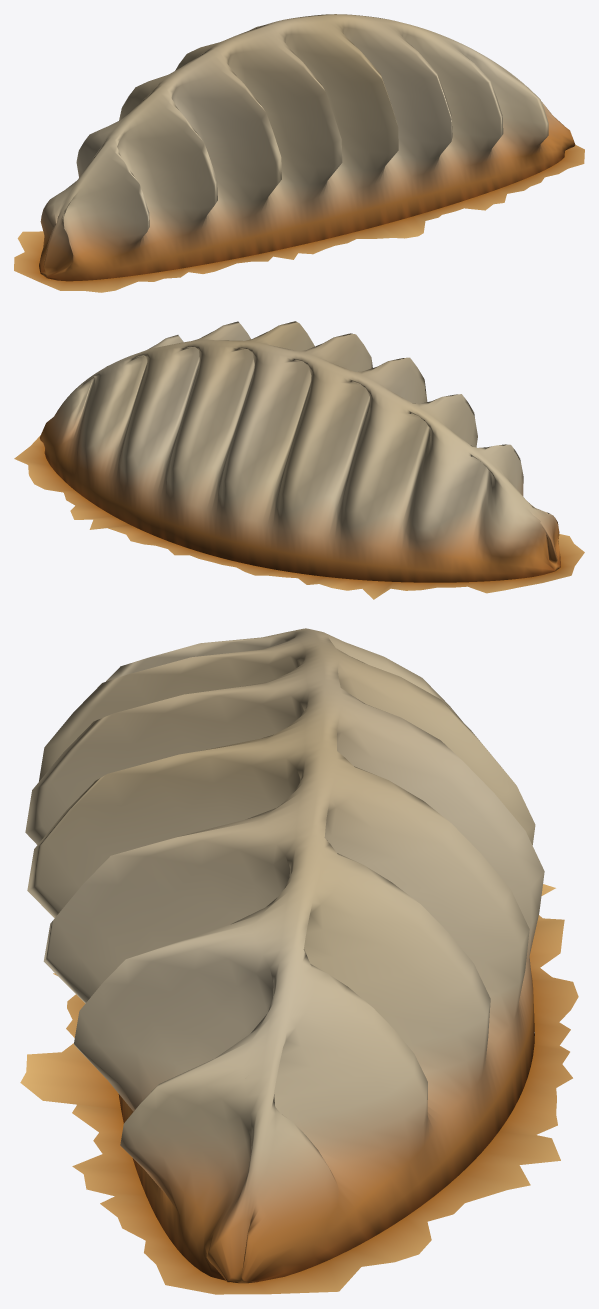
Rendered from hero-gyoza.glb.
3 renders of one model, top to bottom at view 1: azimuth 30°, elevation 25°; view 2: azimuth 150°, elevation 25°; view 3: azimuth 270°, elevation 25°, orthographic. The views are drawn at different scales.
Parts seen in each view (by area): view 1: GyozaBody, GyozaSkirt; view 2: GyozaBody, GyozaSkirt; view 3: GyozaBody, GyozaSkirt.
Part boxes in pixels (<box>): GyozaBody: <box>39,14,575,281</box>; GyozaSkirt: <box>14,145,584,292</box>; GyozaBody: <box>40,321,560,582</box>; GyozaSkirt: <box>14,435,584,599</box>; GyozaBody: <box>25,628,544,1283</box>; GyozaSkirt: <box>20,884,578,1294</box>.
Size of the model in its own units: 2.04 by 0.651 by 0.9032.
